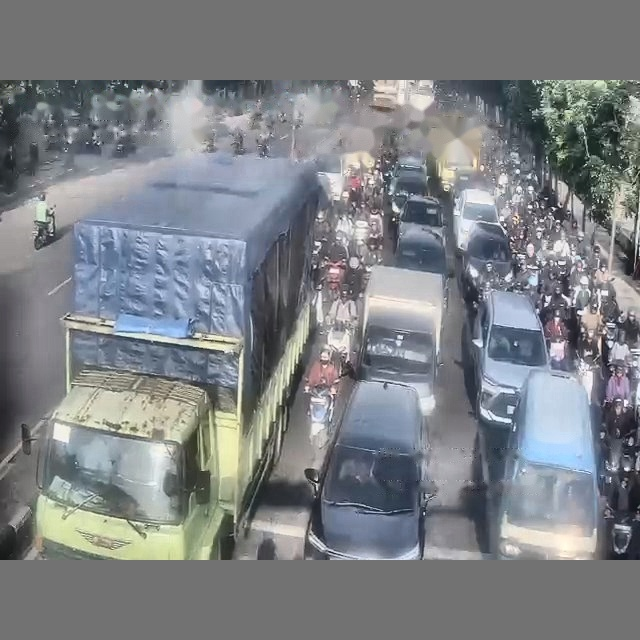Mobil: (304, 381, 435, 559), (468, 290, 548, 427), (460, 222, 512, 302), (453, 189, 500, 253), (388, 172, 428, 232), (398, 195, 444, 240), (315, 154, 345, 201), (392, 155, 427, 177)
Motor: (326, 321, 352, 371), (309, 384, 333, 431), (32, 206, 55, 250)
Truk: (34, 154, 321, 559)
